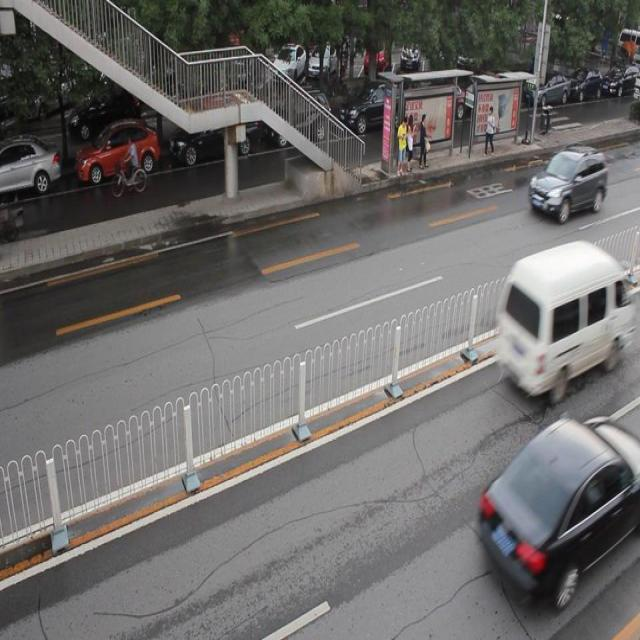car: (476, 414, 640, 599), (529, 147, 606, 223), (169, 104, 258, 168), (76, 119, 159, 187), (338, 80, 410, 135), (1, 137, 60, 200), (265, 89, 330, 146)
truck: (496, 240, 628, 401)
